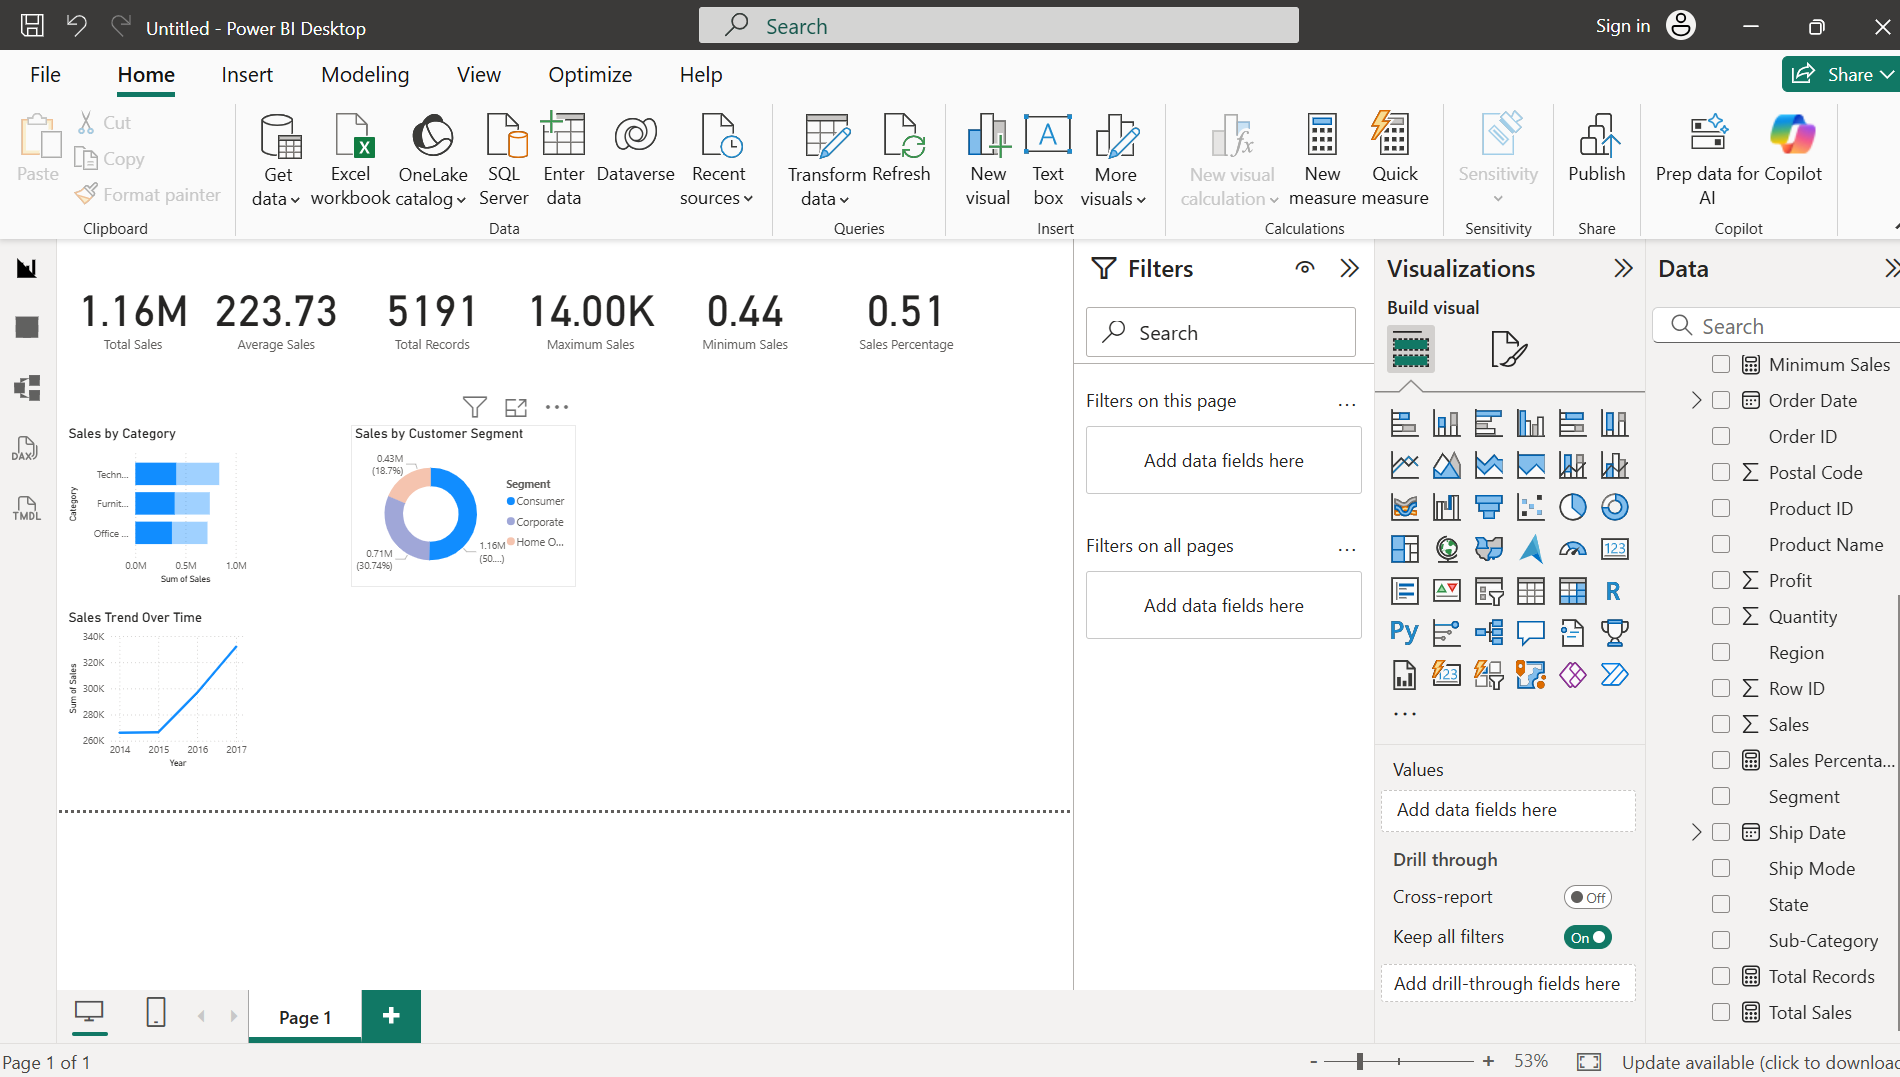

What the dashboard file says about the page in this screenshot:
{"tool":"powerbi","page":{"name":"Page 1","canvas":[1280,720],"ordinal":0},"visuals":[{"type":"card","fields":{"Values":["Sample - Superstore.Total Sales"]},"box":[10,54,200,134],"z":0},{"type":"card","fields":{"Values":["Sample - Superstore.Average Sales"]},"box":[210,54,202,134],"z":1000},{"type":"card","fields":{"Values":["Sample - Superstore.Total Records"]},"box":[412,54,216,134],"z":2000},{"type":"card","fields":{"Values":["Sample - Superstore.Maximum Sales"]},"box":[628,54,208,134],"z":3000},{"type":"card","fields":{"Values":["Sample - Superstore.Minimum Sales"]},"box":[842,54,210,134],"z":4000},{"type":"card","fields":{"Values":["Sample - Superstore.Sales Percentage"]},"box":[1052,54,212,134],"z":5000},{"type":"clusteredBarChart","title":"Sales by Category","fields":{"Category":["Sample - Superstore.Category"],"Y":["Sum(Sample - Superstore.Sales)"]},"box":[192,188,344,282],"z":6000},{"type":"lineChart","title":"Sales Trend Over Time","fields":{"Category":["Sample - Superstore.Order Date.Variation.Date Hierarchy.Year"],"Y":["Sum(Sample - Superstore.Sales)"]},"box":[552,188,348,282],"z":7000},{"type":"donutChart","title":"Sales by Customer Segment","fields":{"Category":["Sample - Superstore.Segment"],"Y":["Sum(Sample - Superstore.Sales)"]},"box":[914,184,350,286],"z":8000},{"type":"tableEx","title":"Product Sales and Profit Details","fields":{"Values":["Sample - Superstore.Product Name","Sample - Superstore.Category","Sum(Sample - Superstore.Sales)","Sum(Sample - Superstore.Profit)"]},"box":[0,470,1264,250],"z":9000},{"type":"slicer","fields":{"Values":["Sample - Superstore.Category"]},"box":[0,188,174,120],"z":10000},{"type":"slicer","fields":{"Values":["Sample - Superstore.Region"]},"box":[10,308,156,146],"z":11000},{"type":"textbox","box":[0,0,1280,68],"z":11001}]}

Visuals, with their boxes on the page's 1280x720 design canvas (x1, y1, x2, y2). These are canvas units, not pixel positions in the 1900x1077 screenshot, which may show the page scaled, cropped or inside an application window:
card - Sample - Superstore.Total Sales: detection(10, 54, 210, 188)
card - Sample - Superstore.Average Sales: detection(210, 54, 412, 188)
card - Sample - Superstore.Total Records: detection(412, 54, 628, 188)
card - Sample - Superstore.Maximum Sales: detection(628, 54, 836, 188)
card - Sample - Superstore.Minimum Sales: detection(842, 54, 1052, 188)
card - Sample - Superstore.Sales Percentage: detection(1052, 54, 1264, 188)
"Sales by Category" clusteredBarChart: detection(192, 188, 536, 470)
"Sales Trend Over Time" lineChart: detection(552, 188, 900, 470)
"Sales by Customer Segment" donutChart: detection(914, 184, 1264, 470)
"Product Sales and Profit Details" tableEx: detection(0, 470, 1264, 720)
slicer - Sample - Superstore.Category: detection(0, 188, 174, 308)
slicer - Sample - Superstore.Region: detection(10, 308, 166, 454)
textbox: detection(0, 0, 1280, 68)
